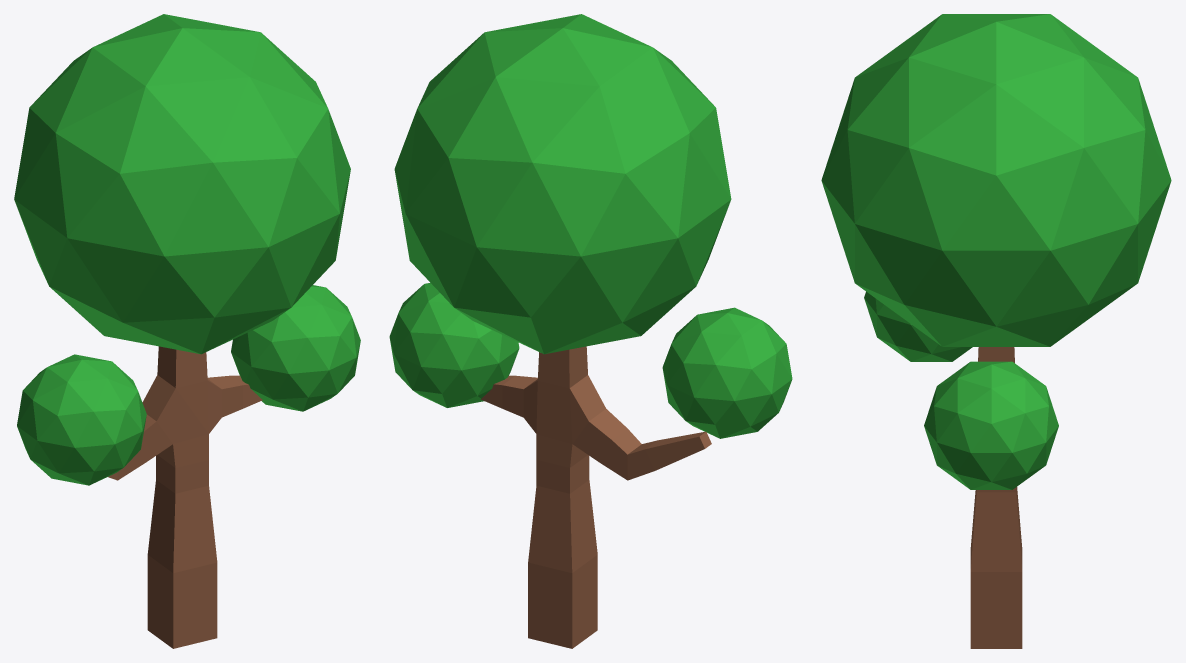
File: Tree4.fbx
The picture shows the model from 3 angles, left to right: view 1: azimuth 30°, elevation 25°; view 2: azimuth 150°, elevation 25°; view 3: azimuth 270°, elevation 25°; orthographic projection.
Parts seen in each view (by area): view 1: Icosphere.018; view 2: Icosphere.018; view 3: Icosphere.018.
Part boxes in pixels (<box>): Icosphere.018: <box>14,14,360,648</box>; Icosphere.018: <box>389,14,792,648</box>; Icosphere.018: <box>821,14,1171,648</box>.
Bounding box in the file's own units: 487 × 799 × 411.
